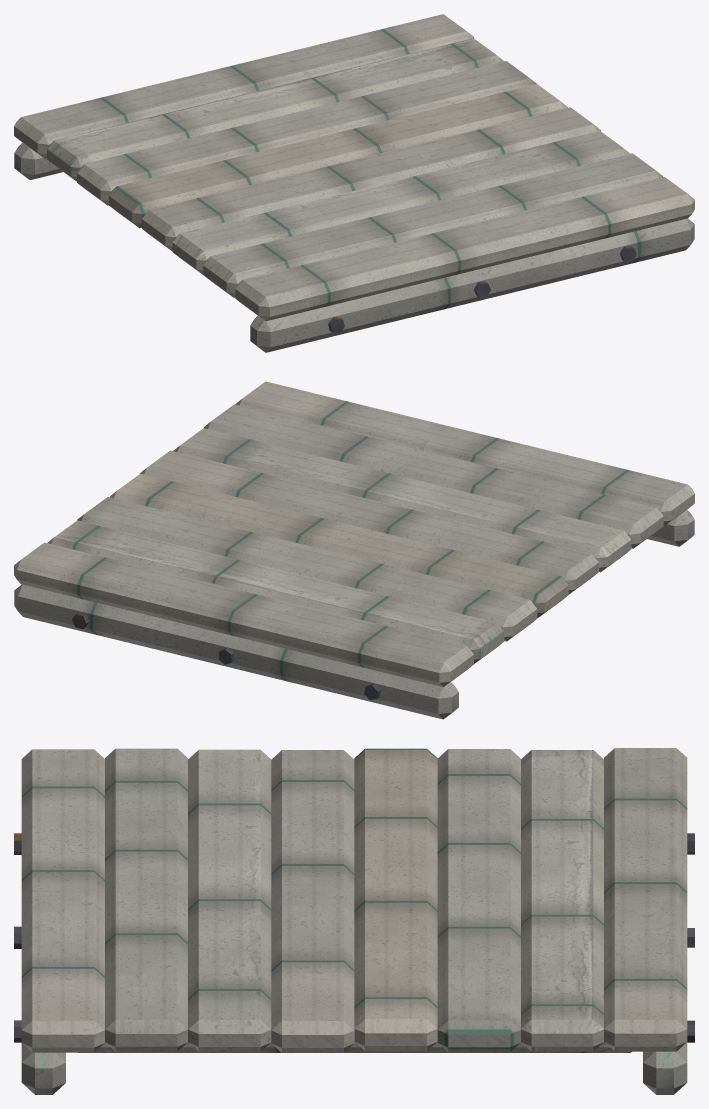
File: kare_zemin.glb
3 views of the same model, one above another, from view 1: azimuth 30°, elevation 25°; view 2: azimuth 150°, elevation 25°; view 3: azimuth 270°, elevation 25° (orthographic). The views are drawn at different scales.
Parts seen in each view (by area): view 1: kare_zemin; view 2: kare_zemin; view 3: kare_zemin.
Part boxes in pixels (<box>): kare_zemin: <box>14,14,694,352</box>; kare_zemin: <box>14,381,694,719</box>; kare_zemin: <box>14,748,694,1094</box>.
Bounding box in the file's own units: 3 × 0.3783 × 3.07.
1 material, 1 textured.
